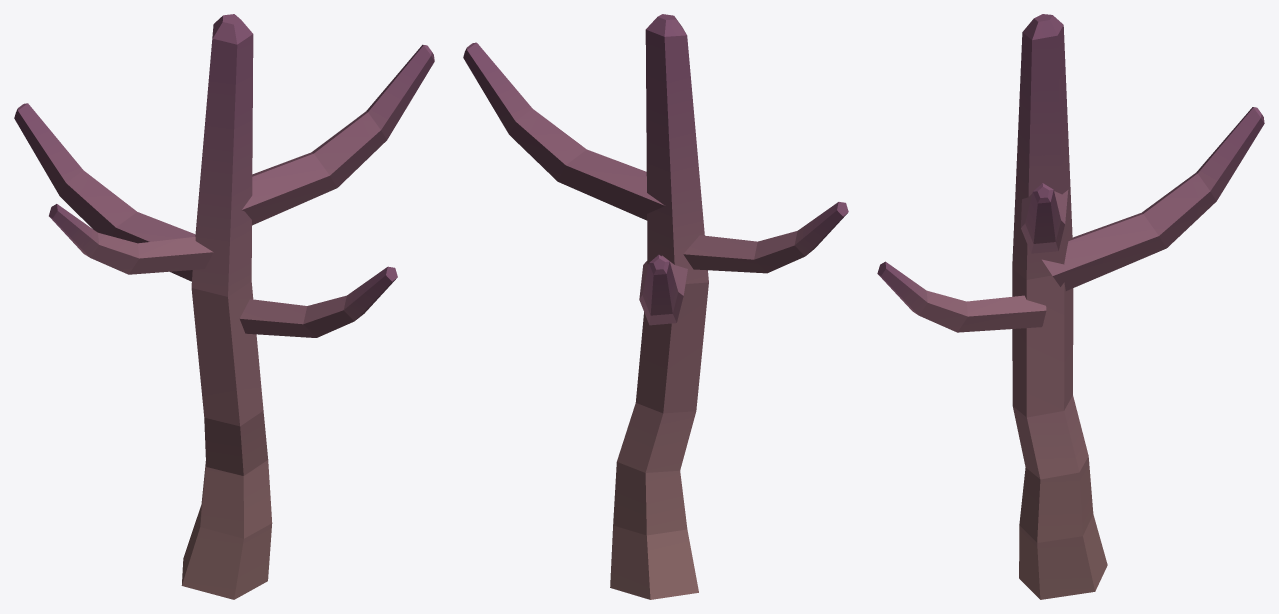
Rendered from smalltree001.obj.
3 views of the same model, side by side, from view 1: azimuth 30°, elevation 25°; view 2: azimuth 150°, elevation 25°; view 3: azimuth 270°, elevation 25° (orthographic).
Parts seen in each view (by area): view 1: small_tree.001; view 2: small_tree.001; view 3: small_tree.001.
Boxes of the visible parts, x1,y1,x2,y2 form: small_tree.001: [14, 14, 434, 599]; small_tree.001: [463, 14, 848, 599]; small_tree.001: [877, 14, 1264, 599].
Bounding box in the file's own units: 8.06 × 11.49 × 7.12.
1 material, 1 textured.
